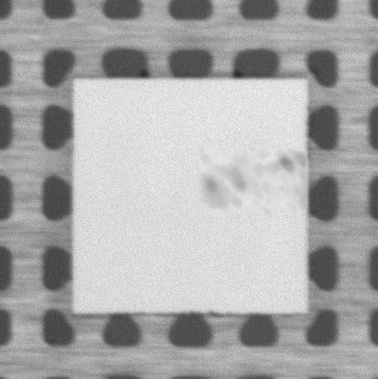DIE_INK: (194, 145, 308, 214)
